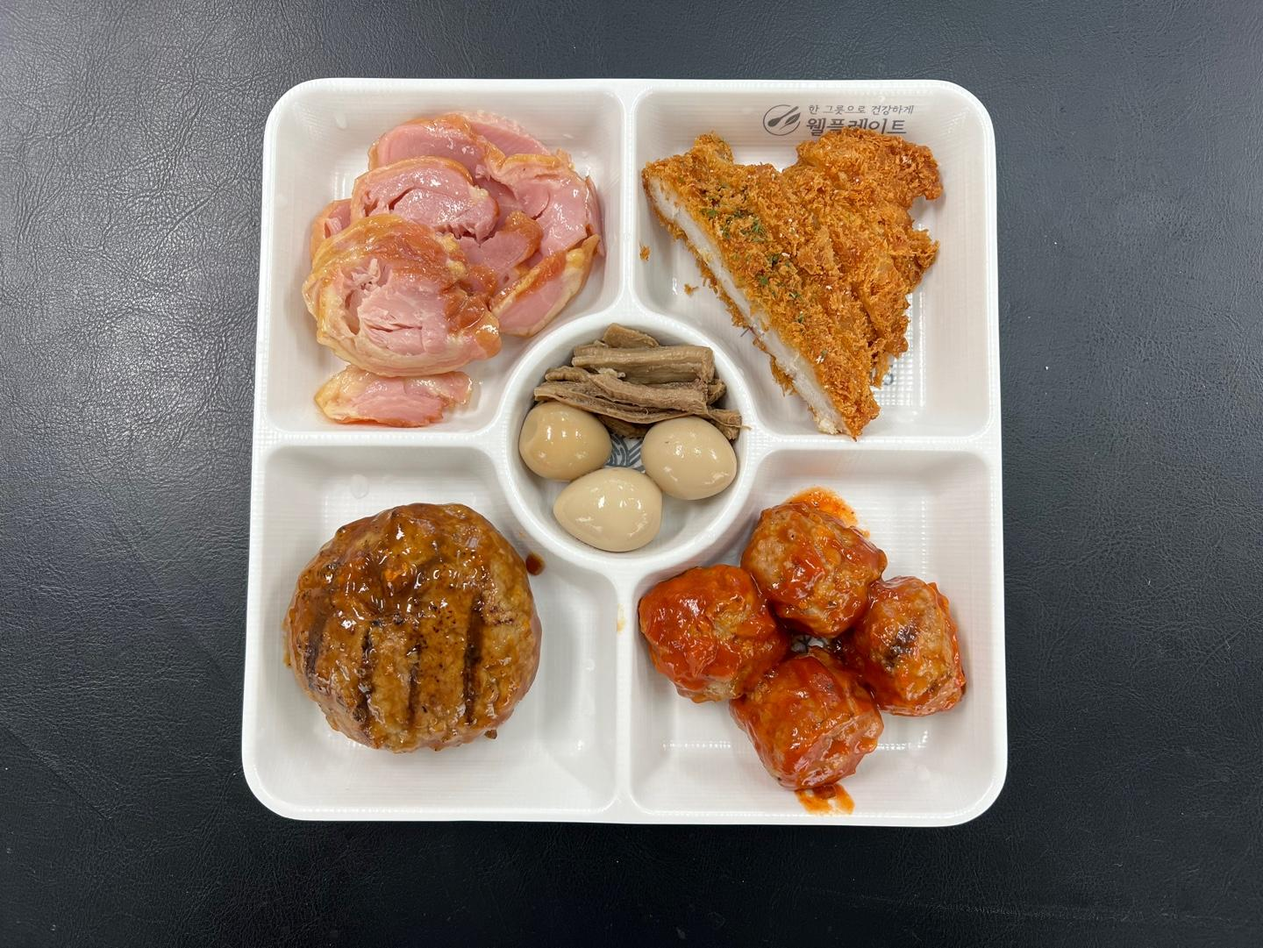food: (643, 495, 984, 794), (639, 88, 944, 421), (306, 99, 599, 421), (278, 476, 538, 773), (515, 319, 738, 561)
